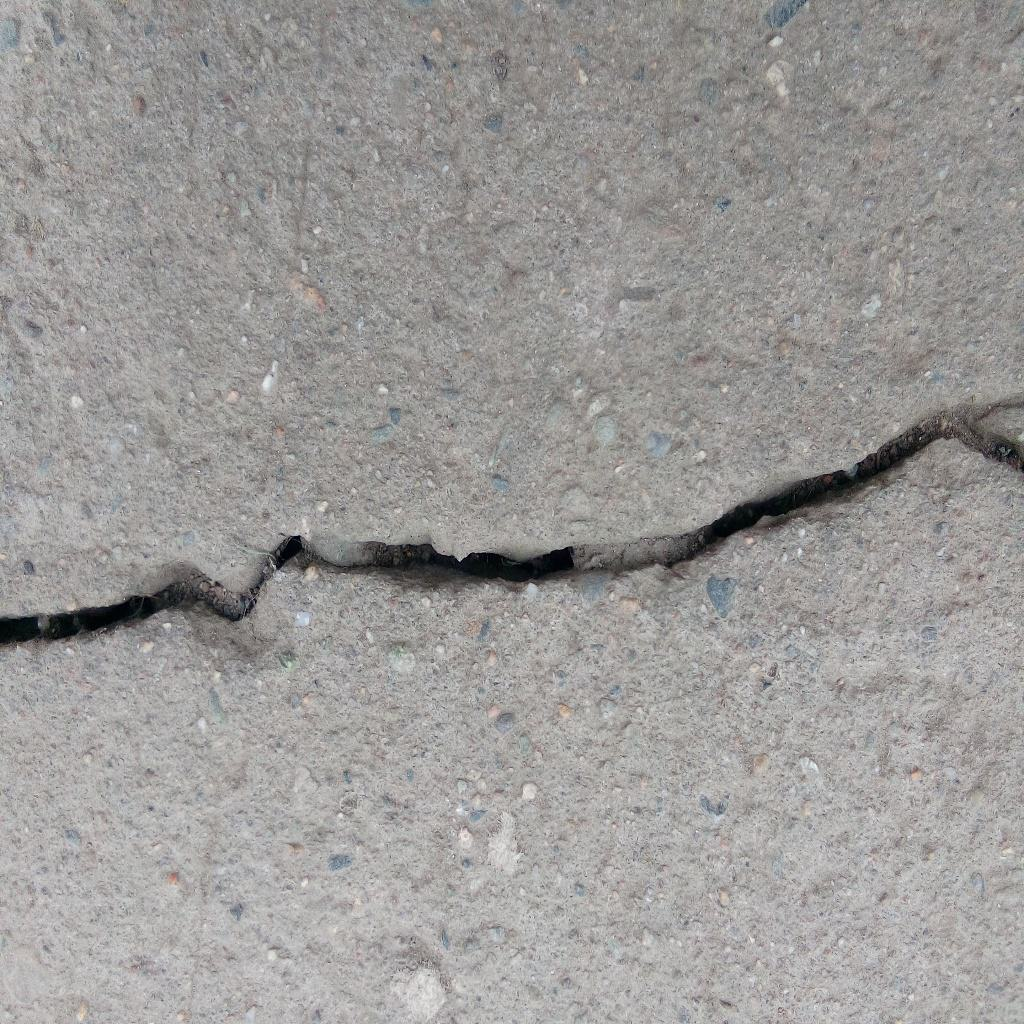Crack: (1, 399, 1024, 653)
